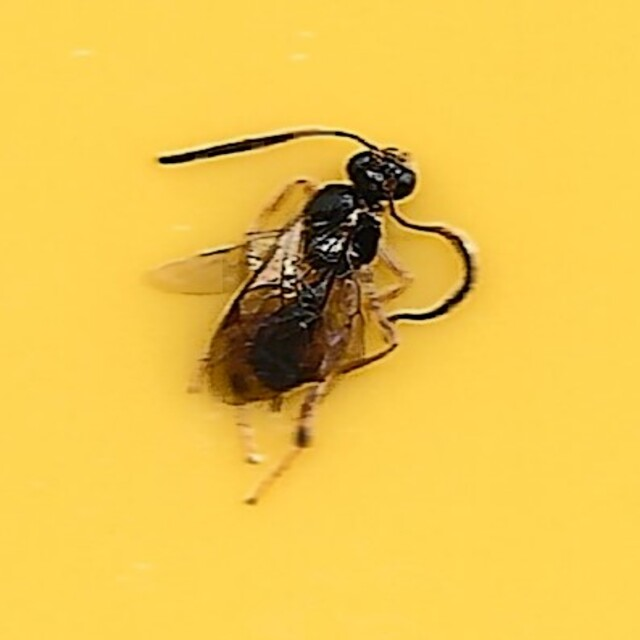Hymenoptera: (161, 132, 479, 508)
